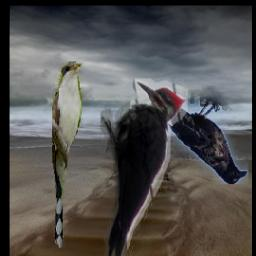Crow: (150, 87, 247, 185)
Cuckoo: (52, 61, 82, 248)
Woodpecker: (101, 79, 188, 256)
